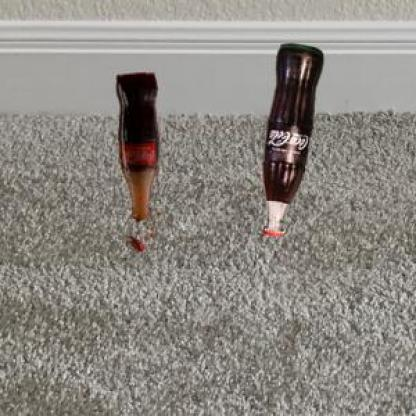bottle: (259, 39, 324, 252), (116, 71, 163, 258)
